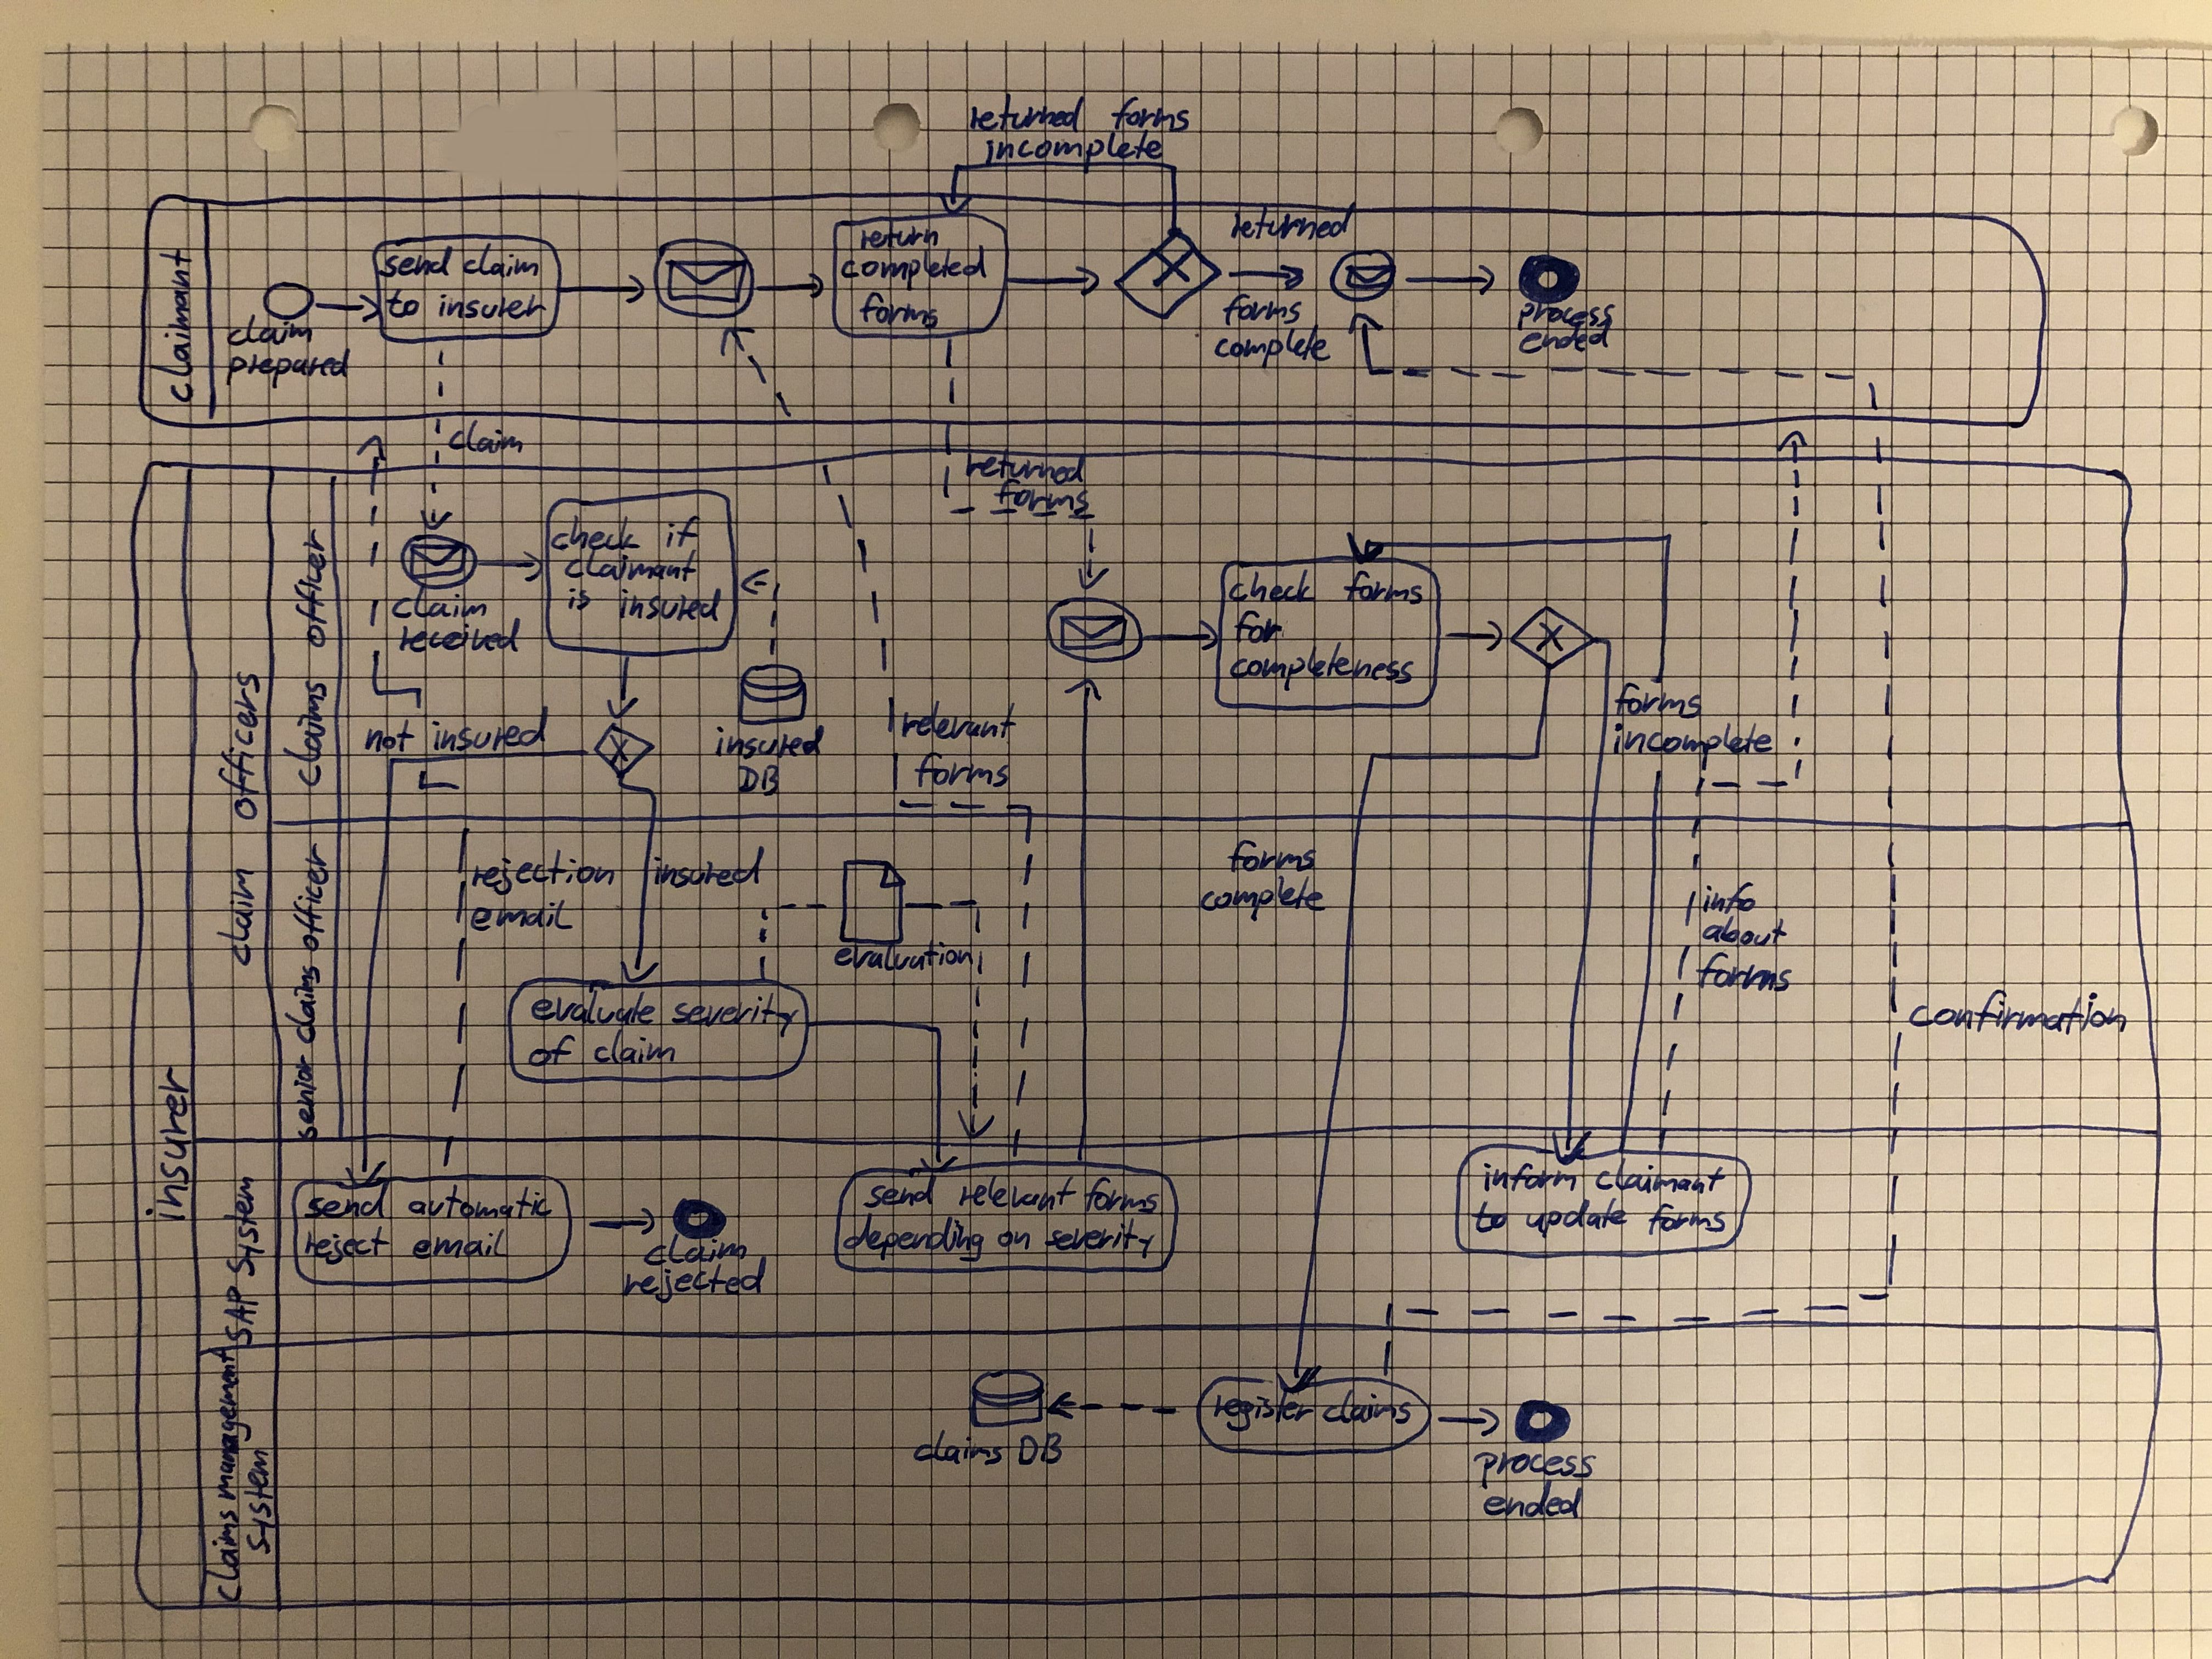DB: (1017, 1427, 1071, 1471), (740, 763, 779, 796)
SAP: (221, 1284, 261, 1342)
System: (219, 1176, 272, 1281)
about: (1703, 917, 1789, 953)
automatic: (409, 1188, 557, 1225)
check: (549, 518, 653, 556), (1226, 568, 1320, 606)
claim: (218, 868, 263, 967), (456, 244, 547, 284), (589, 1033, 681, 1072), (449, 418, 526, 457), (650, 1236, 747, 1265), (225, 319, 317, 349), (394, 594, 491, 620)
claimant: (160, 239, 200, 403), (1592, 1159, 1730, 1201), (570, 551, 700, 582)
claims: (282, 676, 334, 789), (200, 1502, 247, 1607), (911, 1429, 1005, 1469), (284, 958, 324, 1044), (1318, 1392, 1414, 1427)
complete: (1197, 880, 1327, 920), (1212, 328, 1336, 368)
completed: (840, 246, 993, 288)
completeness: (1224, 648, 1426, 692)
confirmation: (1909, 992, 2132, 1039)
depending: (846, 1220, 984, 1256)
email: (413, 1229, 512, 1265), (474, 901, 575, 936)
ended: (1486, 1486, 1580, 1523), (1507, 324, 1613, 354)
evaluate: (533, 993, 662, 1032)
evaluation: (834, 941, 972, 972)
for: (1230, 608, 1287, 648)
forms: (1609, 680, 1716, 728), (1695, 953, 1794, 997), (988, 477, 1096, 516), (1228, 838, 1324, 878), (913, 755, 1010, 791), (1339, 570, 1425, 612), (1080, 1176, 1167, 1216), (1219, 293, 1308, 329), (860, 291, 942, 329), (1644, 1199, 1728, 1236), (1111, 99, 1191, 132)
if: (658, 518, 704, 556)
incomplete: (1608, 718, 1777, 760), (979, 132, 1170, 167)
info: (1700, 880, 1764, 917)
inform: (1472, 1157, 1578, 1194)
insured: (648, 847, 765, 889), (611, 586, 728, 624), (707, 725, 826, 762), (428, 716, 545, 753)
insurer: (145, 1065, 192, 1225), (427, 289, 549, 326)
is: (563, 586, 592, 615)
management: (206, 1351, 247, 1499)
not: (366, 721, 415, 756)
of: (529, 1033, 575, 1068)
officer: (282, 840, 331, 957), (291, 535, 334, 650)
officers: (219, 669, 265, 819)
on: (995, 1220, 1029, 1253)
prepared: (228, 352, 354, 387)
process: (1475, 1445, 1595, 1483), (1517, 300, 1616, 328)
received: (395, 619, 523, 657)
register: (1205, 1391, 1312, 1432)
reject: (298, 1229, 390, 1263)
rejected: (620, 1267, 770, 1302)
rejection: (469, 854, 617, 892)
relevant: (897, 699, 1017, 748), (954, 1175, 1076, 1218)
return: (852, 223, 949, 254)
returned: (956, 443, 1089, 483), (1226, 207, 1353, 246), (967, 99, 1085, 132)
send: (305, 1188, 392, 1223), (378, 244, 453, 282), (864, 1176, 939, 1209)
senior: (287, 1049, 324, 1140)
severity: (667, 997, 798, 1033), (1036, 1220, 1160, 1255)
system: (242, 1448, 272, 1553)
to: (1472, 1201, 1510, 1236), (385, 288, 420, 321)
update: (1527, 1199, 1630, 1234)
